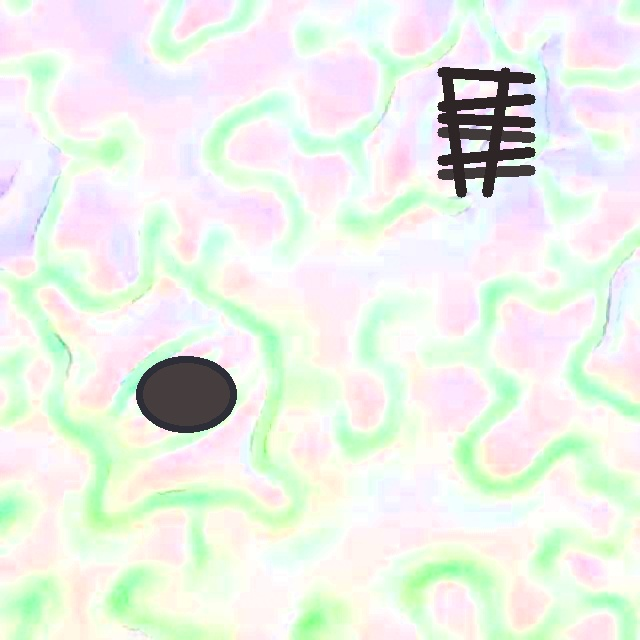open: (438, 68, 534, 197), (136, 357, 237, 432)
